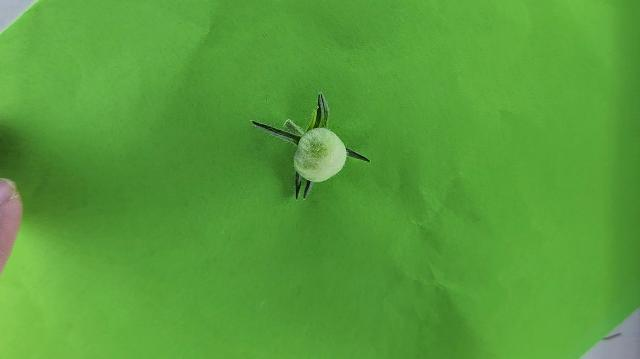Fruit Maturation: (293, 128, 346, 182)
